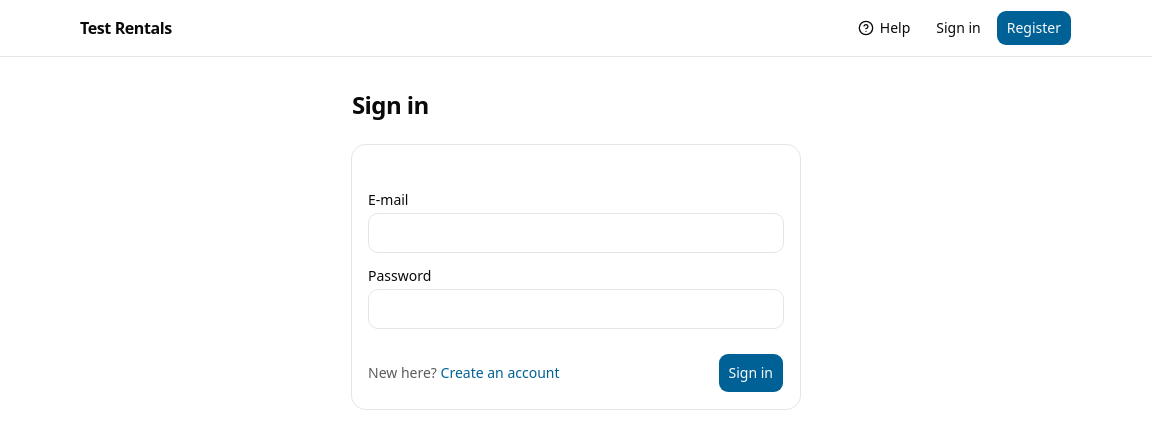
Scenario: session › never puts a token in localStorage or sessionStorage
Type "customer@vrms.test" into the field labelled "E-mail".
click(576, 233); type("customer@vrms.test")  # box [368,213,784,253]
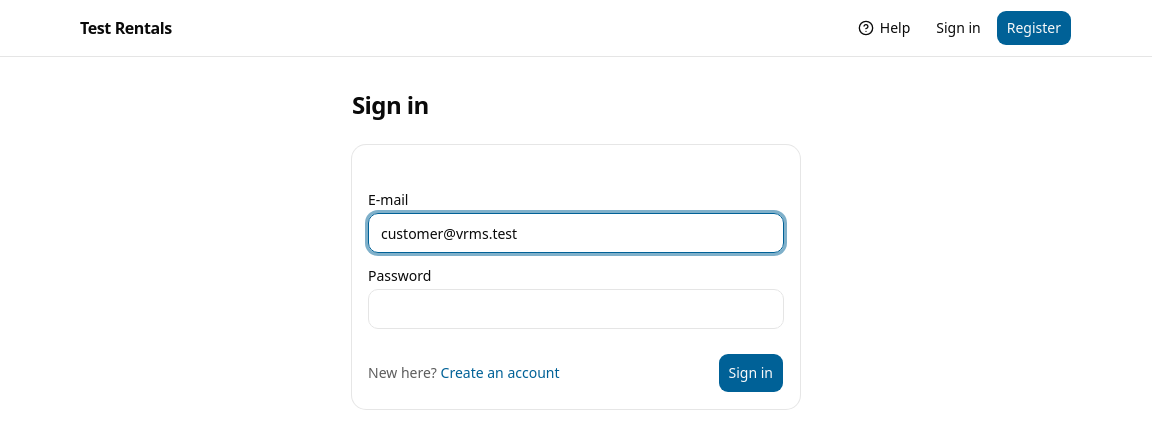
Type "Demo@1234" into the password field labelled "Password".
click(576, 309); type("Demo@1234")  # box [368,289,784,329]
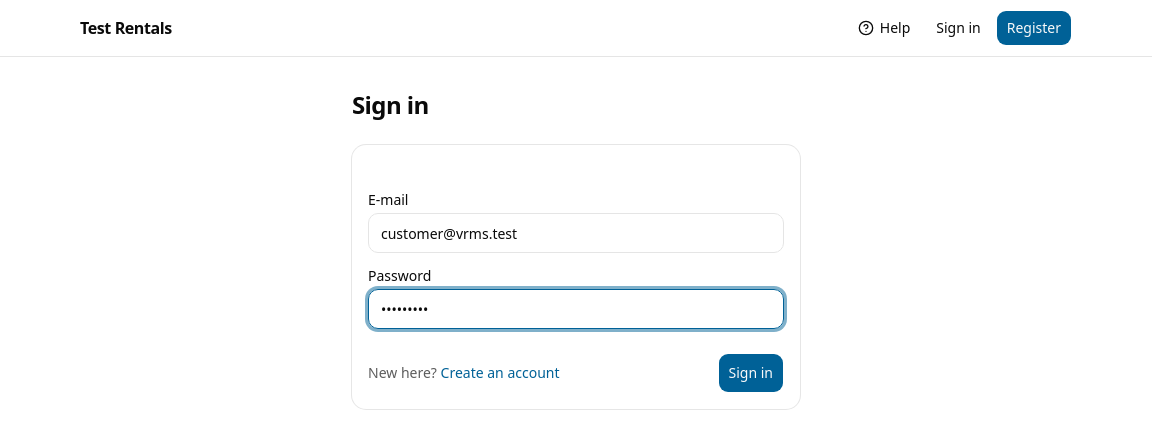
Click the button "Sign in".
click(751, 373)  # box [718,353,784,393]
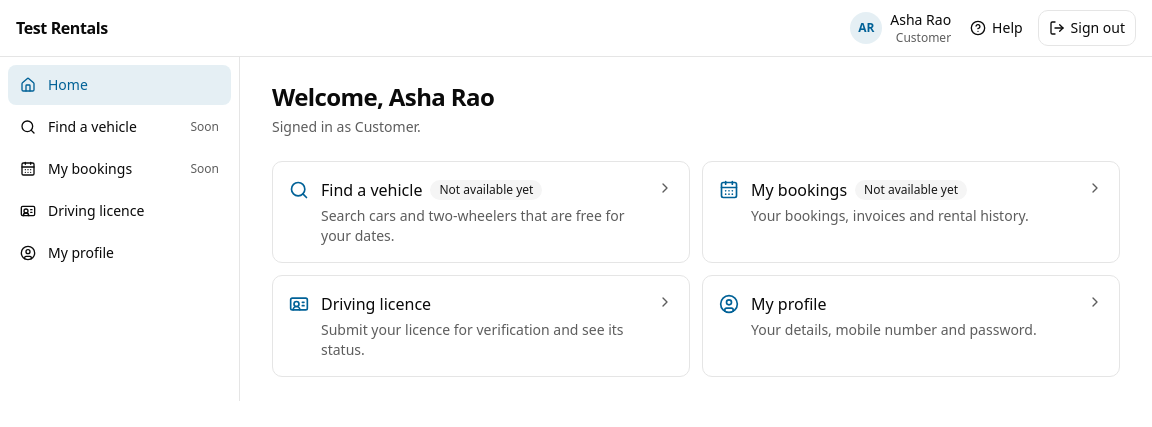
Check: the heading "Welcome, Asha Rao" is shown, box [272,81,494,113]
